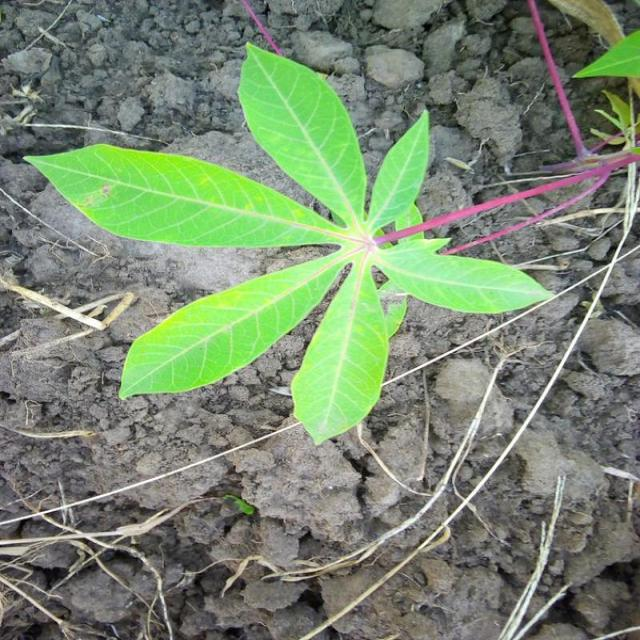cassava leaf: (22, 39, 560, 445), (22, 141, 347, 248), (236, 41, 367, 230), (290, 257, 388, 446), (364, 108, 430, 235)
